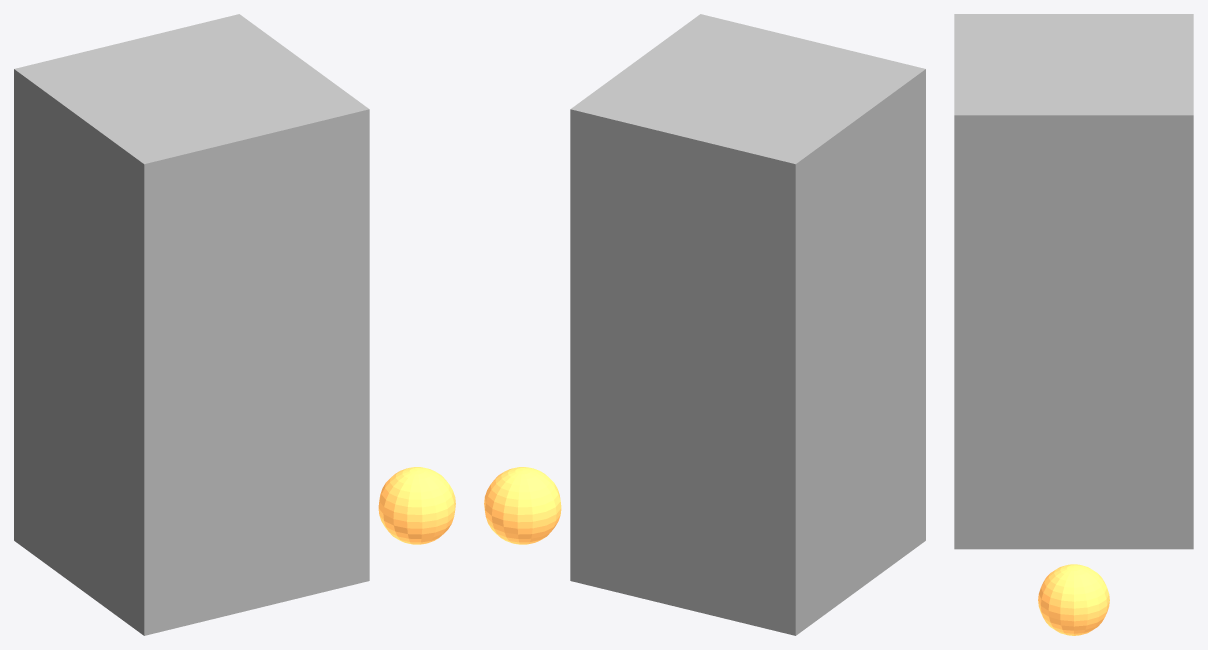
File: Units.glb
The picture shows the model from 3 angles, left to right: view 1: azimuth 30°, elevation 25°; view 2: azimuth 150°, elevation 25°; view 3: azimuth 270°, elevation 25°; orthographic projection. The views are drawn at different scales.
Parts seen in each view (by area): view 1: BoundingBox, Bullet; view 2: BoundingBox, Bullet; view 3: BoundingBox, Bullet.
Part boxes in pixels (x1,y1,x2,y2): BoundingBox: (14, 14, 369, 635); Bullet: (378, 467, 455, 544); BoundingBox: (570, 14, 925, 635); Bullet: (484, 467, 561, 544); BoundingBox: (954, 14, 1193, 549); Bullet: (1038, 564, 1109, 635).
Size of the model in its own units: 1.65 by 2.15 by 1.
Materials: 2 (2 with a texture image).
